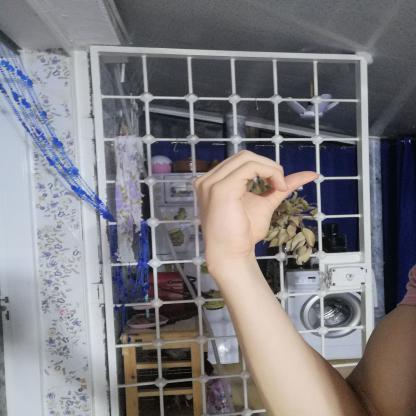WAW: (184, 142, 332, 262)
